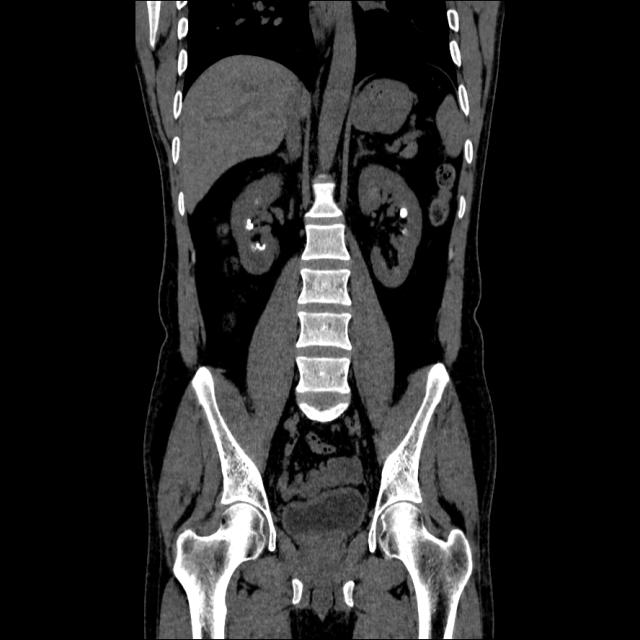kidneystone: (255, 244, 266, 251), (400, 208, 408, 217), (246, 218, 251, 229)
